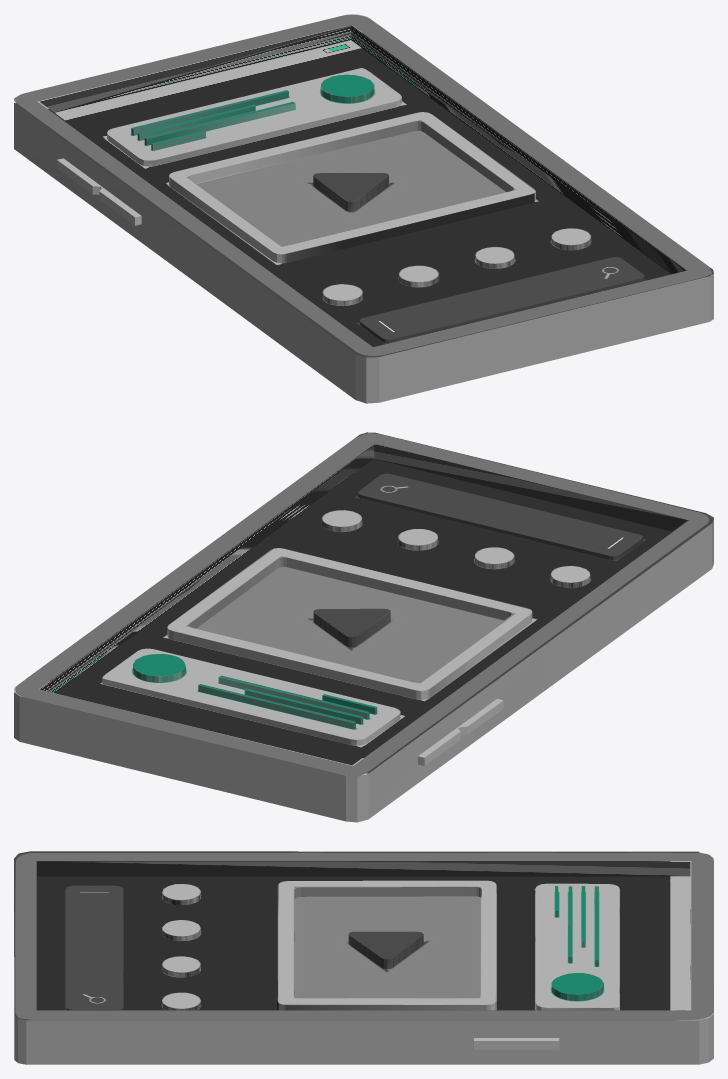
Rendered from smartphone.glb.
The picture shows the model from 3 angles, top to bottom: view 1: azimuth 30°, elevation 25°; view 2: azimuth 150°, elevation 25°; view 3: azimuth 270°, elevation 25°; orthographic projection. The views are drawn at different scales.
Visible parts, largest first — view 1: phone1; view 2: phone1; view 3: phone1.
Boxes of the visible parts, box(x1,y1,x2,y2) form: phone1: box(14, 14, 713, 403); phone1: box(14, 432, 713, 822); phone1: box(14, 851, 713, 1064).
Size of the model in its own units: 2.85 by 0.3427 by 4.83.
Materials: 3 (1 with a texture image).
